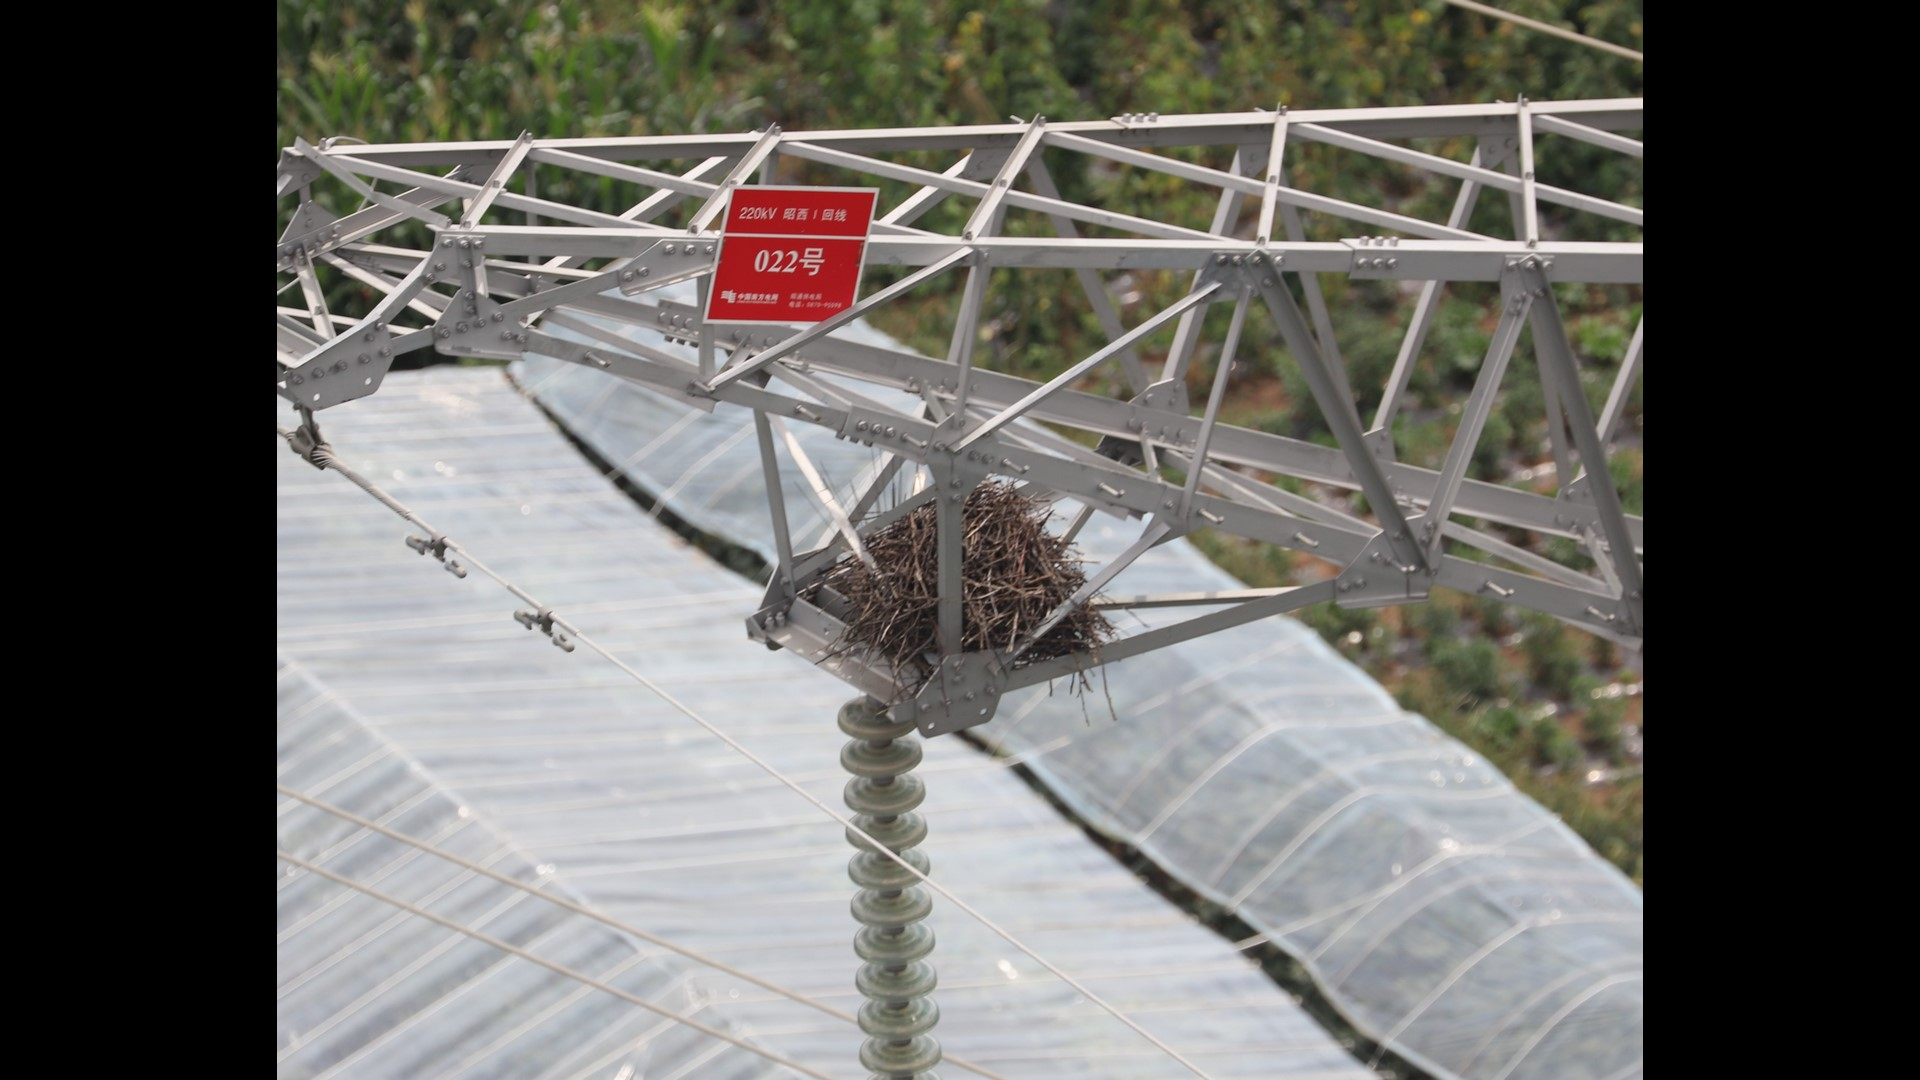niaowo: (822, 473, 1124, 676)
